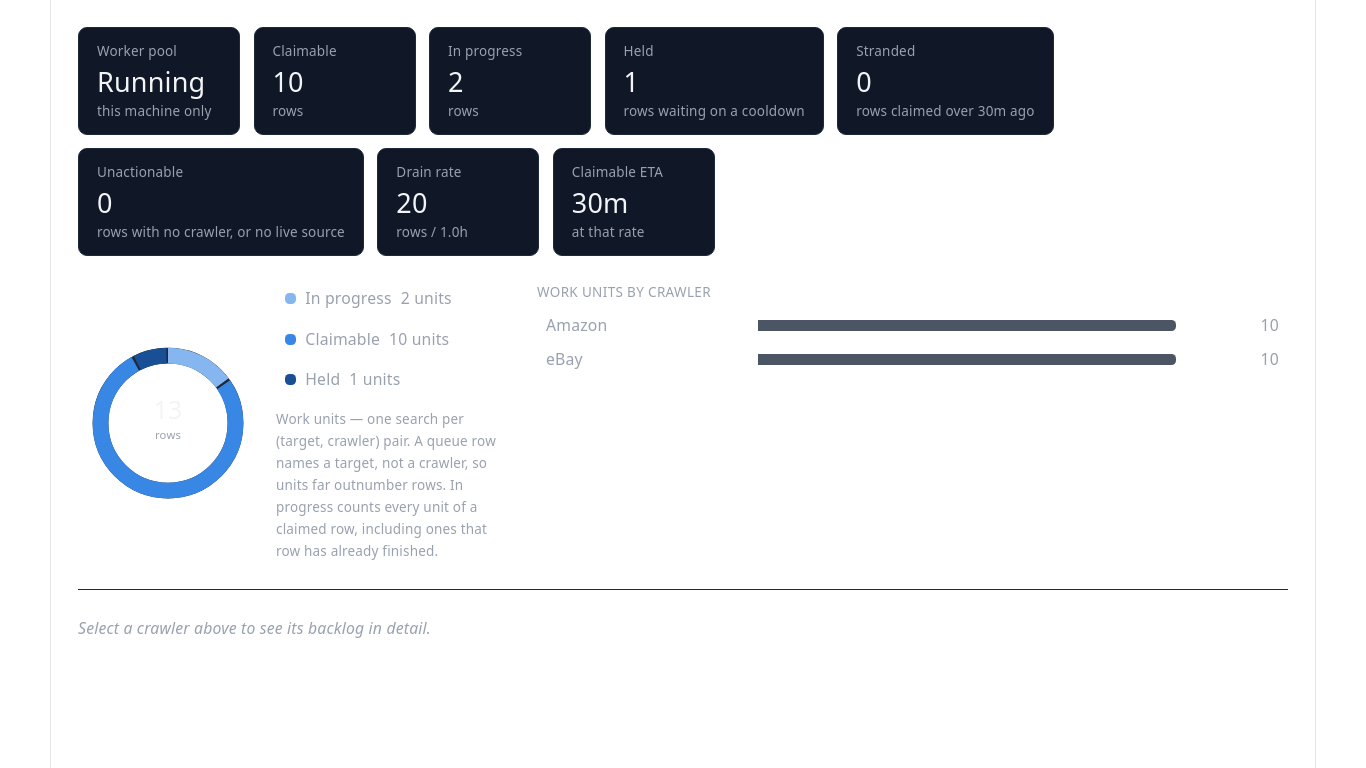
it: QueueView › filters the crawler list on the In progress segment too
Expected: the button "Amazon 10" is shown, [537,310,1288,341]
Click the button "In progress 2 units": (393, 299) [276,283,510,314]
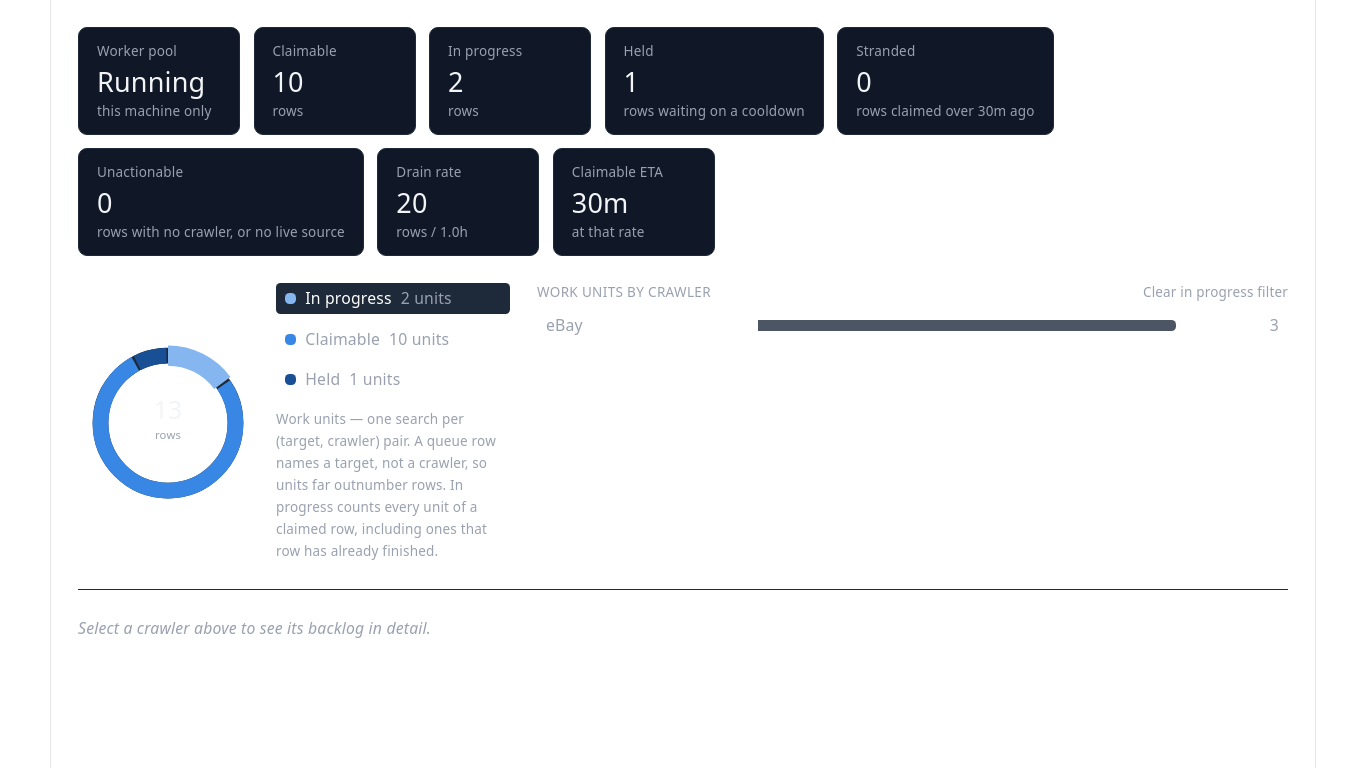
Expected: the button "eBay 3" is shown, [537,310,1288,341]
Expected: the button "Amazon" is gone
